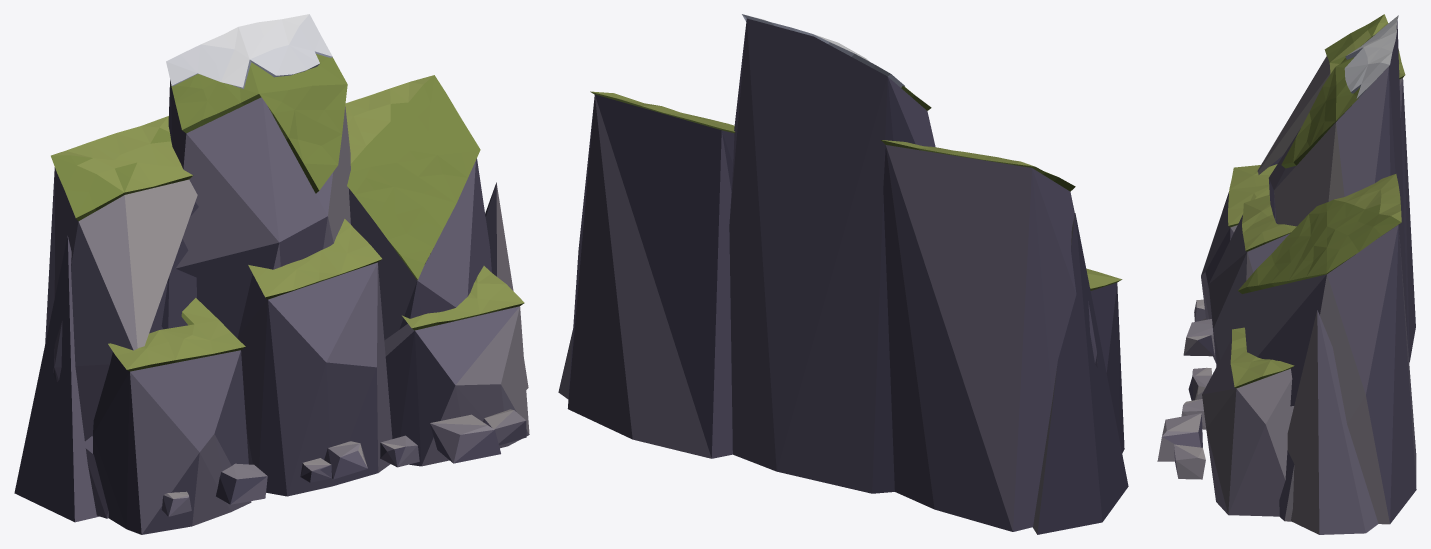
Rendered from mtn_cliff_a.glb.
3 renders of one model, left to right at view 1: azimuth 30°, elevation 25°; view 2: azimuth 150°, elevation 25°; view 3: azimuth 270°, elevation 25°, orthographic. The views are drawn at different scales.
Parts seen in each view (by area): view 1: mtn_cliff_a; view 2: mtn_cliff_a; view 3: mtn_cliff_a.
Part boxes in pixels (<box>): mtn_cliff_a: <box>14,14,529,534</box>; mtn_cliff_a: <box>558,14,1128,534</box>; mtn_cliff_a: <box>1157,14,1416,534</box>.
Bounding box in the file's own units: 35.72 × 27.51 × 16.64.
